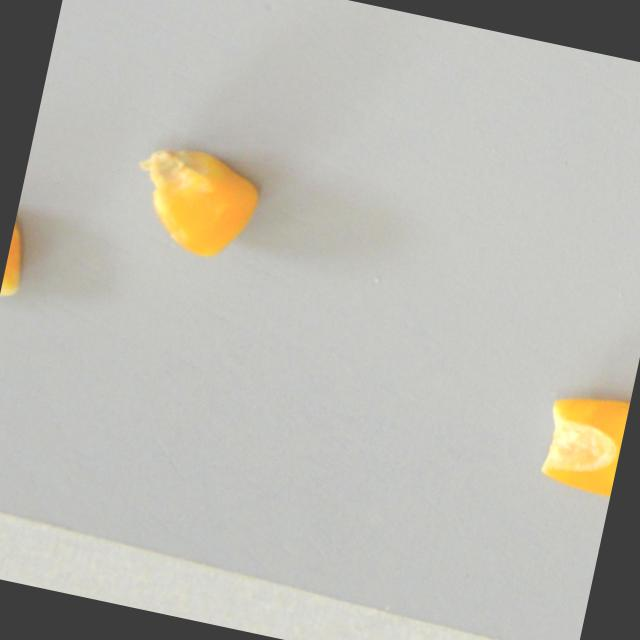dañado: (0, 205, 40, 317)
entero: (123, 134, 266, 267)
no_desgerminado: (535, 386, 630, 497)
